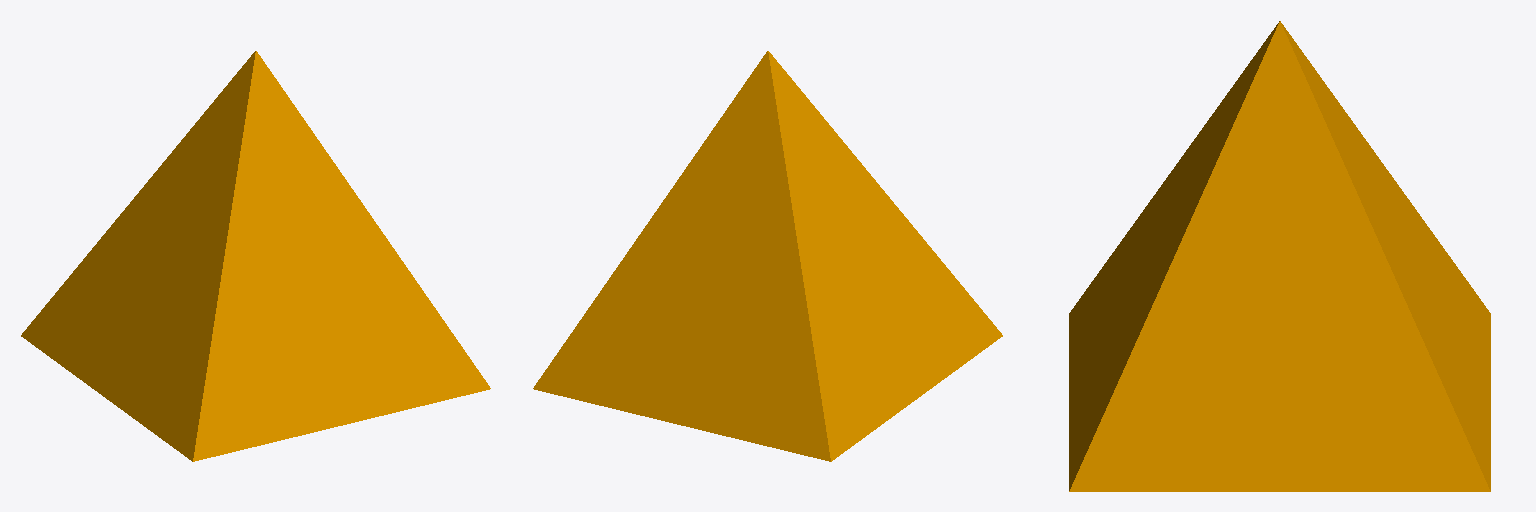
URDF robot description (pyramid_s):
<?xml version="1.0" ?>
<robot name="pyramid_s">

<link name="pyramid_s_base_link">
  <inertial>
    <origin xyz="3.947459643111669e-18 5.921189464667504e-18 0.007499999999999991" rpy="0 0 0"/>
    <mass value="0.07064999999999996"/>
    <inertia ixx="6e-06" iyy="6e-06" izz="6e-06" ixy="0.0" iyz="-0.0" ixz="-0.0"/>
  </inertial>
  <visual>
    <origin xyz="0 0 0" rpy="0 0 0"/>
    <geometry>
      <mesh filename="meshes/pyramid_s_base_link.stl" scale="0.001 0.001 0.001"/>
    </geometry>
    <material name="silver"/>
  </visual>
  <collision>
    <origin xyz="0 0 0" rpy="0 0 0"/>
    <geometry>
      <mesh filename="meshes/pyramid_s_base_link.stl" scale="0.001 0.001 0.001"/>
    </geometry>
  </collision>
</link>

<link name="pyramid_s_AP_1">
  <inertial>
    <origin xyz="0.0 0.0 0.0" rpy="0 0 0"/>
    <mass value="3.288200310757315e-05"/>
    <inertia ixx="0.0" iyy="0.0" izz="0.0" ixy="0.0" iyz="0.0" ixz="0.0"/>
  </inertial>
  
  
</link>

<joint name="Rigid 1" type="fixed">
  <origin xyz="0.0 0.0 0.0" rpy="0 0 0"/>
  <parent link="pyramid_s_base_link"/>
  <child link="pyramid_s_AP_1"/>
</joint>

</robot>

--- Render facts (derived) ---
Views: 3 orthographic renders of the robot side by side, from view 1: azimuth 30°, elevation 25°; view 2: azimuth 150°, elevation 25°; view 3: azimuth 270°, elevation 25°.
Robot: pyramid_s — 2 links, 1 joints (1 fixed); root link pyramid_s_base_link; default pose: all joints at 0.
Visible links, largest first — view 1: pyramid_s_base_link; view 2: pyramid_s_base_link; view 3: pyramid_s_base_link.
Boxes of the visible links, x1=… form: pyramid_s_base_link: x1=21, y1=51, x2=490, y2=461; pyramid_s_base_link: x1=533, y1=51, x2=1002, y2=461; pyramid_s_base_link: x1=1069, y1=21, x2=1490, y2=491.
Size in the robot's own frame: 0.03 by 0.03 by 0.03 metres.
1 mesh visuals loaded from 1 distinct referenced files (1 binary STL).